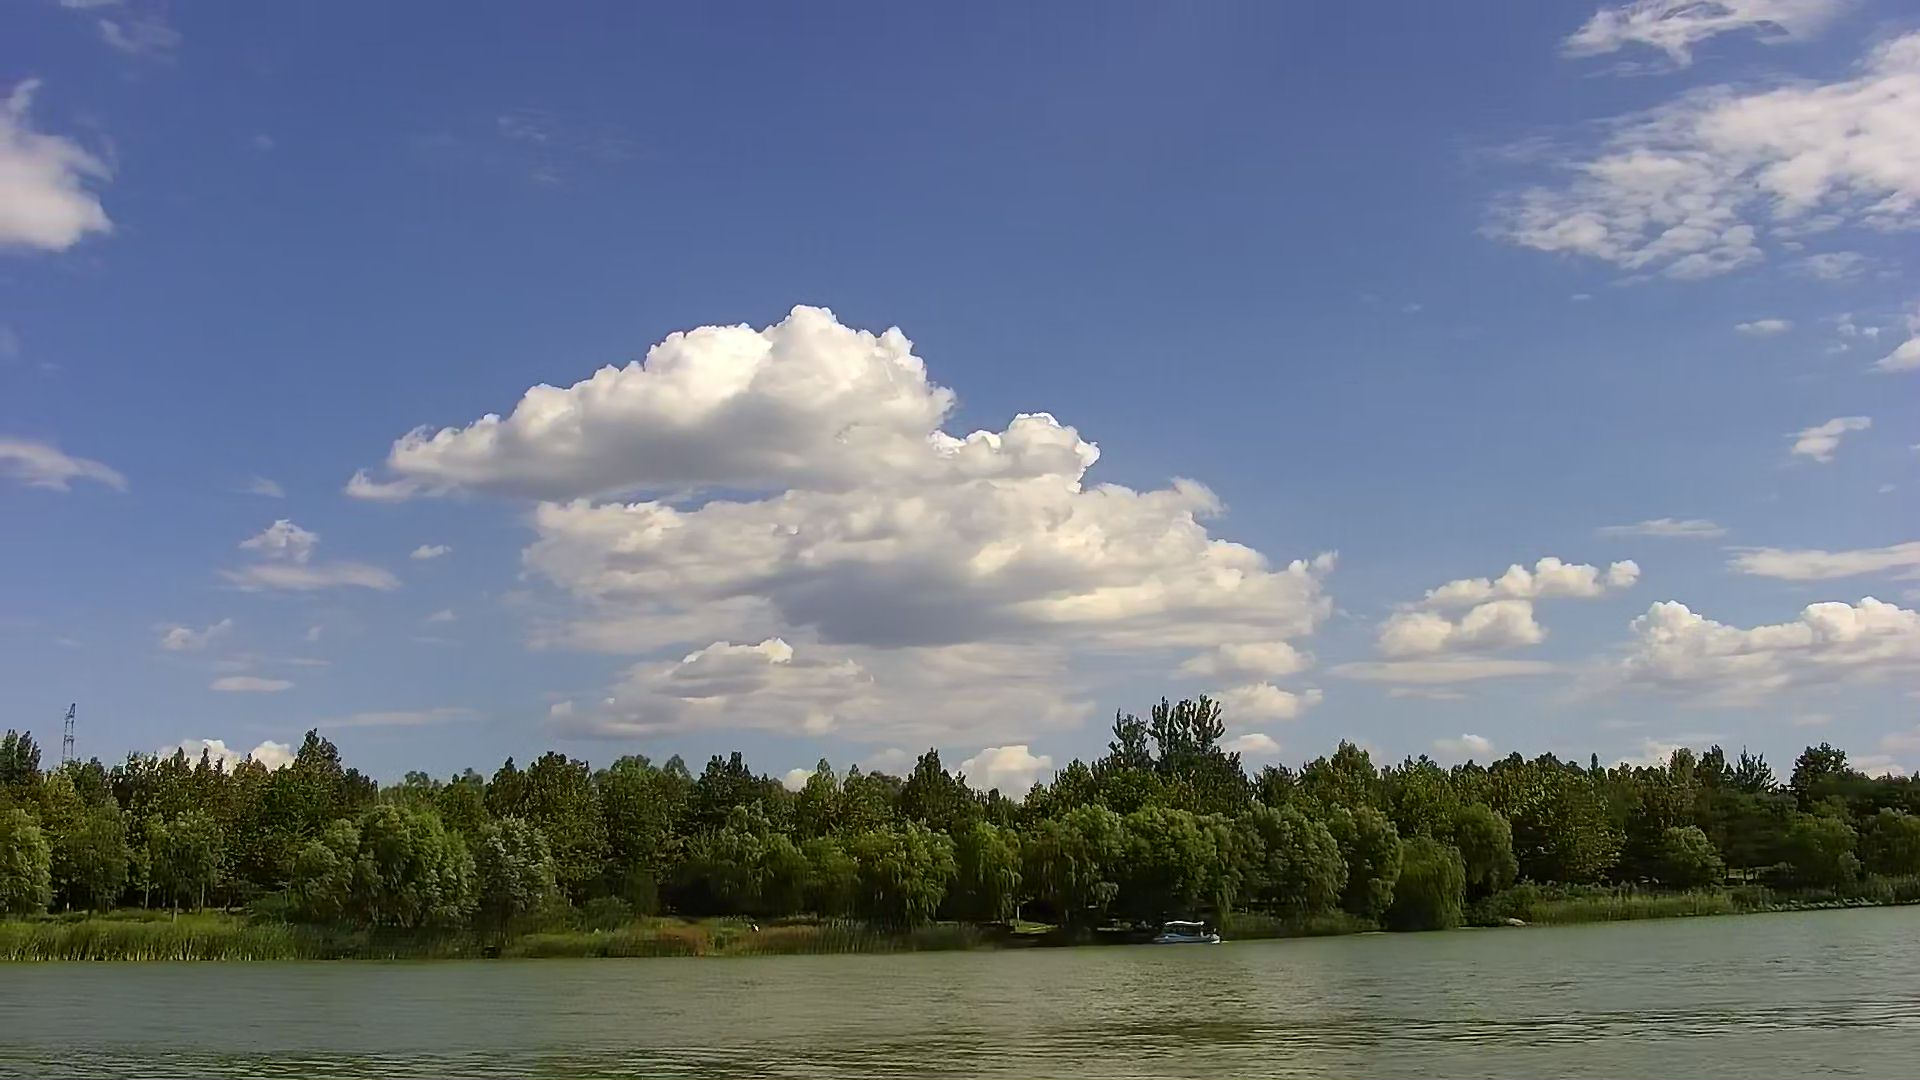boat: (1147, 916, 1222, 949)
